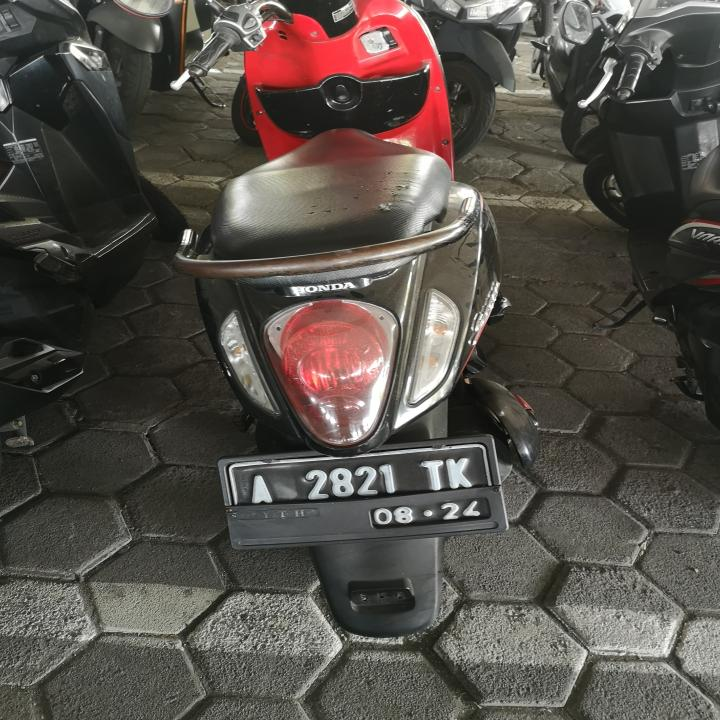plate: (212, 436, 510, 544)
